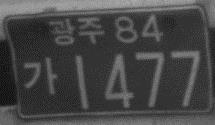1: (73, 53, 90, 111)
4: (103, 53, 135, 108), (141, 14, 164, 44)
7: (132, 50, 165, 108), (170, 49, 200, 108)
8: (114, 14, 139, 44)
가: (23, 56, 58, 97)
광주_O: (47, 16, 104, 45)
